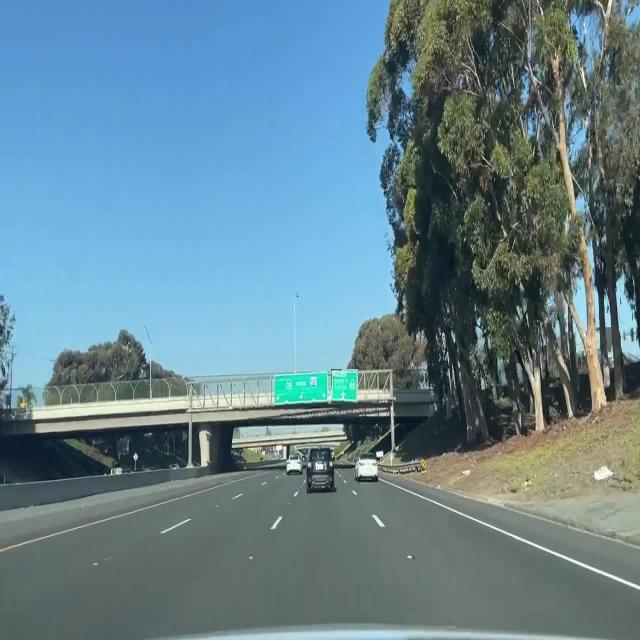street-signs: (273, 372, 328, 406), (331, 369, 358, 403)
